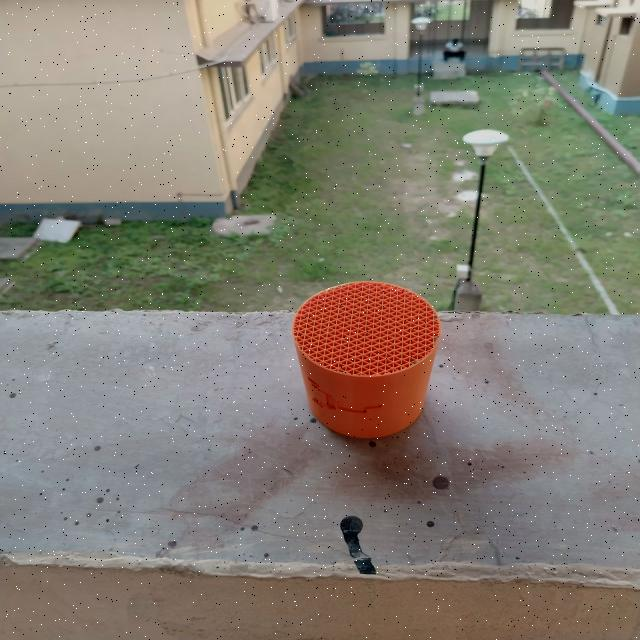Cylinder: (291, 279, 443, 439)
